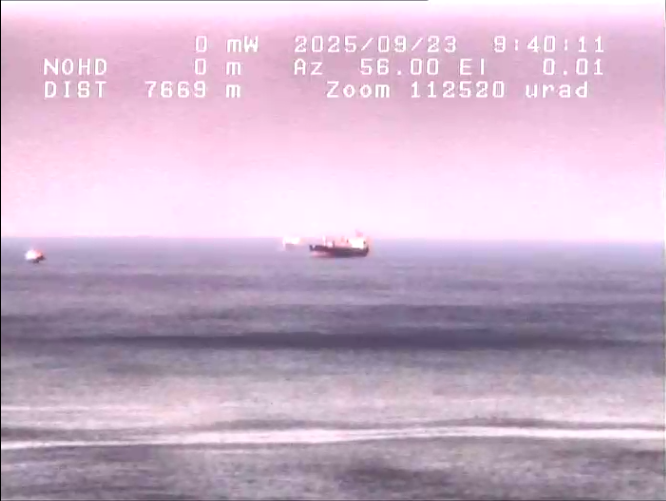TANKER: (304, 232, 398, 269), (17, 249, 49, 267)
